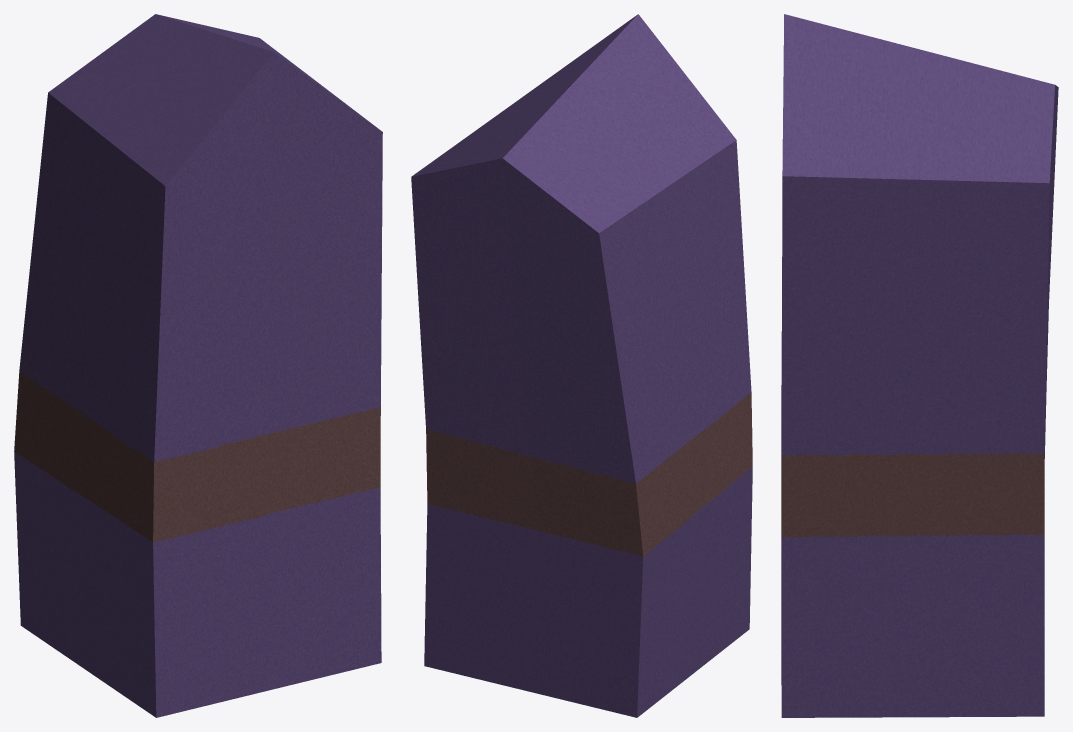
The model's file is milk3.fbx.
The picture shows the model from 3 angles, left to right: view 1: azimuth 30°, elevation 25°; view 2: azimuth 150°, elevation 25°; view 3: azimuth 270°, elevation 25°; orthographic projection. The views are drawn at different scales.
Parts seen in each view (by area): view 1: milk.002; view 2: milk.002; view 3: milk.002.
Part boxes in pixels (box(x1,y1,x2,y2)): milk.002: box(14, 14, 382, 717); milk.002: box(411, 14, 752, 717); milk.002: box(781, 14, 1058, 717).
Size of the model in its own units: 51.91 by 127 by 49.12.
